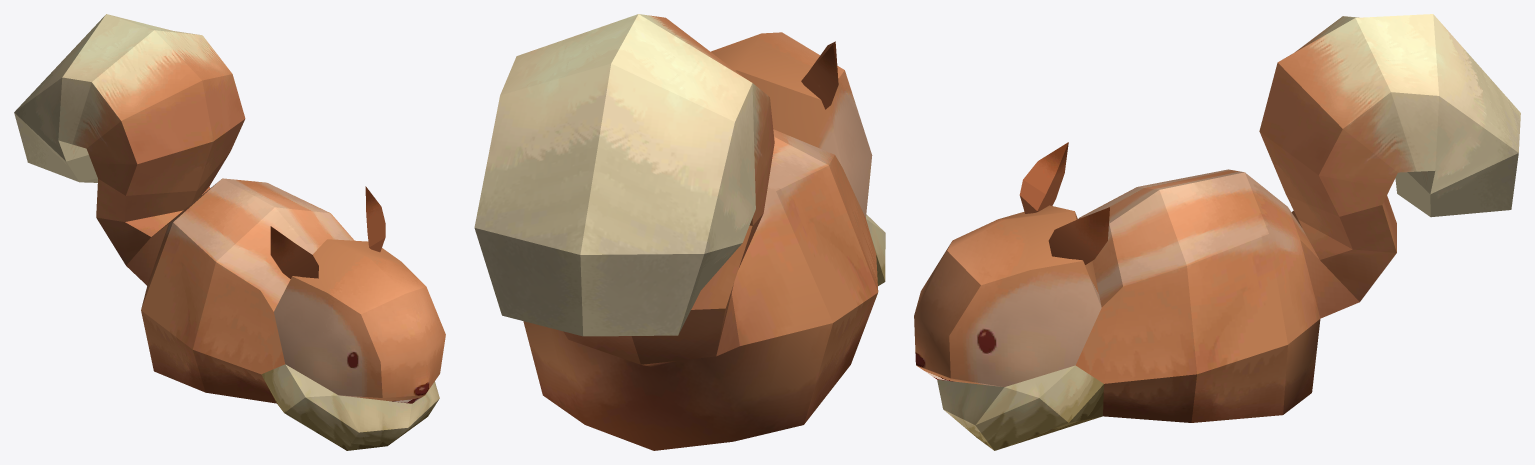
File: acc_back0027.fbx
3 views of the same model, side by side, from view 1: azimuth 30°, elevation 25°; view 2: azimuth 150°, elevation 25°; view 3: azimuth 270°, elevation 25° (orthographic). The views are drawn at different scales.
Parts seen in each view (by area): view 1: acc_back0027_m; view 2: acc_back0027_m; view 3: acc_back0027_m.
Part boxes in pixels (x1=…): acc_back0027_m: x1=14, y1=14, x2=445, y2=450; acc_back0027_m: x1=474, y1=14, x2=885, y2=450; acc_back0027_m: x1=914, y1=14, x2=1520, y2=450.
Size of the model in its own units: 0.0988 by 0.131 by 0.1911.
